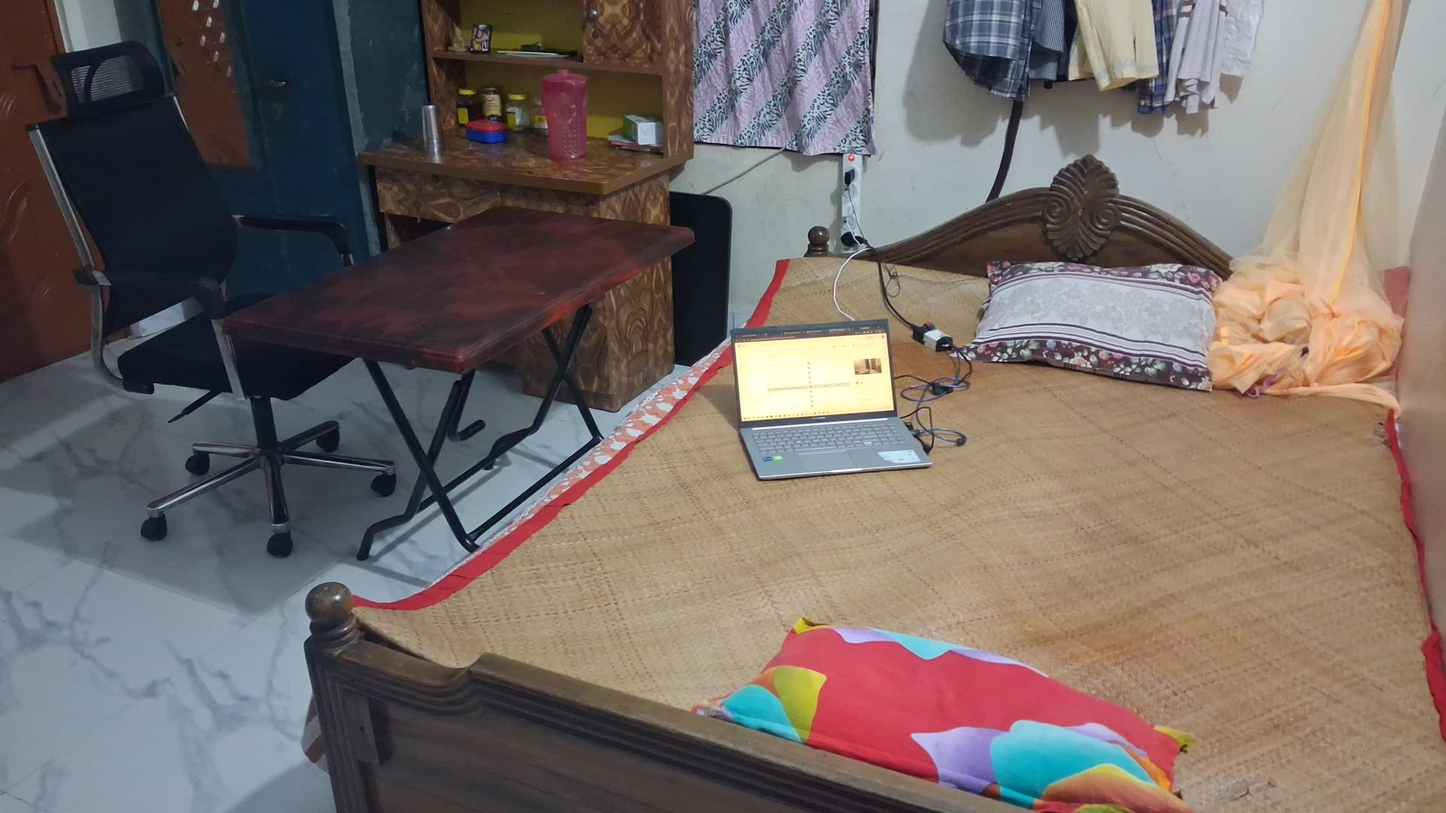Box: (618, 107, 664, 147)
Chair: (25, 95, 395, 559)
Glass: (414, 101, 446, 153)
Jar: (460, 115, 509, 146), (505, 91, 532, 130), (454, 87, 479, 116), (481, 85, 504, 116)
Jug: (536, 69, 599, 161)
Laptop: (730, 319, 934, 481)
Pillow: (694, 590, 1194, 813), (959, 231, 1230, 398)
Table: (215, 175, 695, 518)
